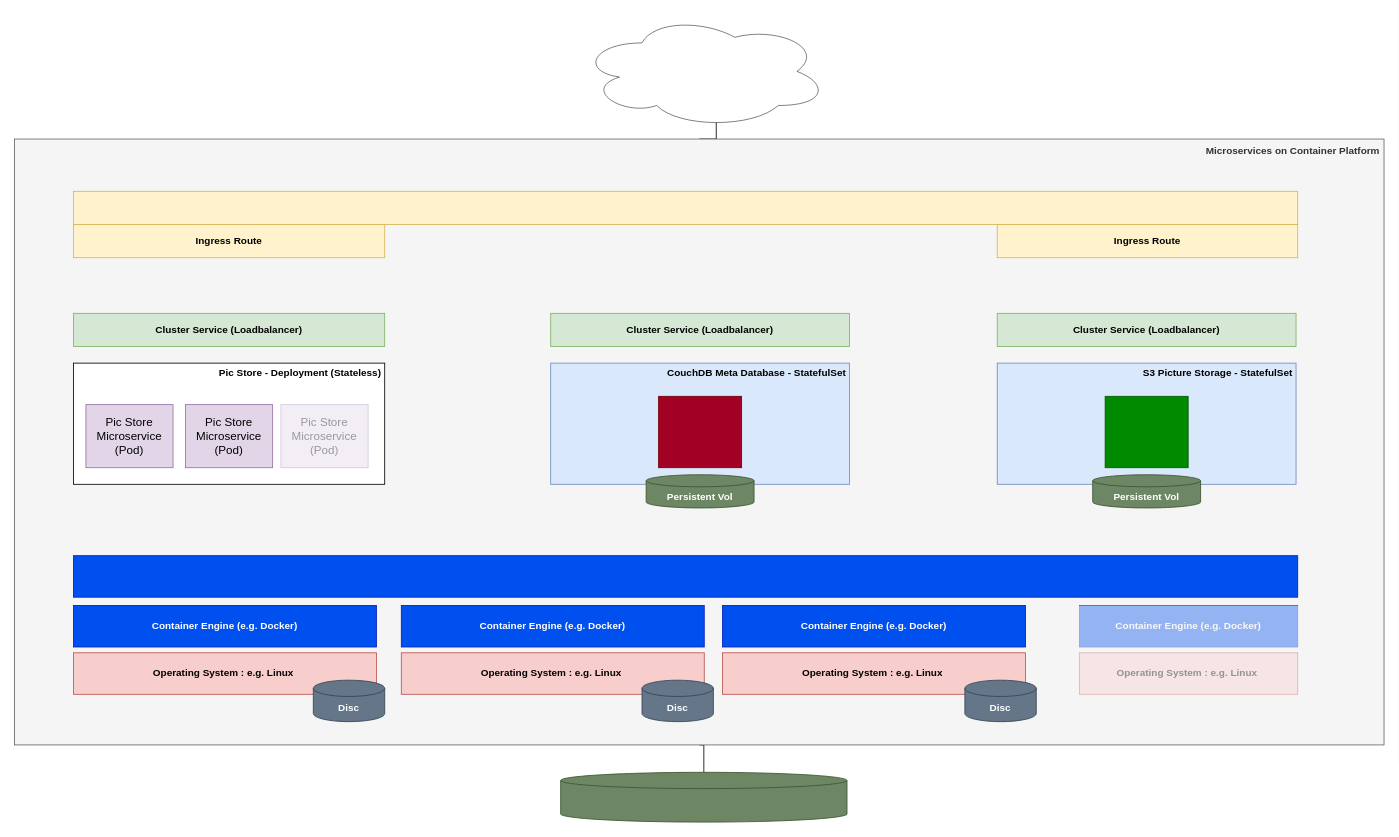
Some shapes in this 1399 by 837 pixel diagram are drawn without their labels. The shapes that lost their labels are listed below. From the top down, each one's centre as x and y in pixels, then its label:
At point (703, 71): "Intranet / Internet".
At point (685, 207): "Ingress Controller (Nginx Reverse Proxy)".
At point (700, 431): "CouchDB (Pod)".
At point (1146, 431): "Minio (Pod)".
At point (685, 576): "Container Orchestrator (Kubernetes)".
At point (703, 796): "Central Storage".
